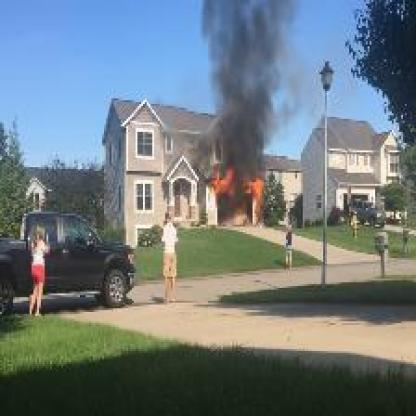fire: (196, 153, 278, 212)
other: (25, 233, 51, 293)
smoke: (198, 0, 279, 169)
